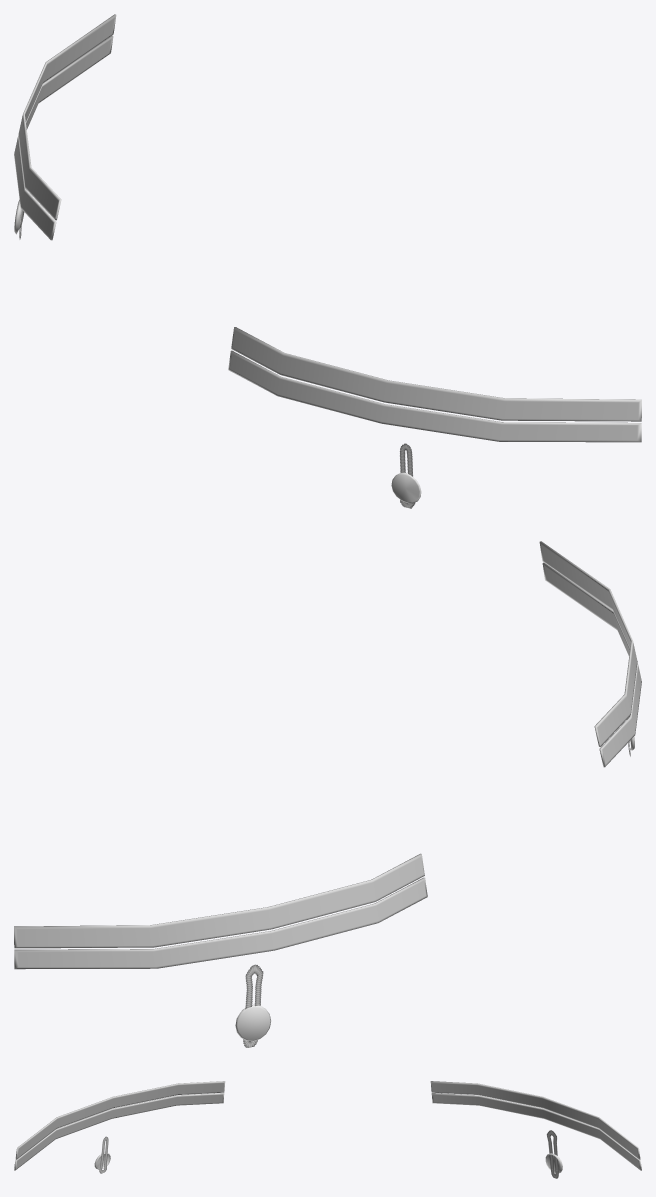
File: two_jetted_pockets_with_buttons.glb
3 views of the same model, one above another, from view 1: azimuth 30°, elevation 25°; view 2: azimuth 150°, elevation 25°; view 3: azimuth 270°, elevation 25° (orthographic). The views are drawn at different scales.
Visible parts, largest first — view 1: SM_T_Right_jetted_pocket, SM_T_Left_jetted_pocket, SM_T_B_Right_pocket_without welted; view 2: SM_T_Left_jetted_pocket, SM_T_Right_jetted_pocket, SM_T_B_Left_pocket_Without Welted; view 3: SM_T_Right_jetted_pocket, SM_T_Left_jetted_pocket, SM_T_B_Left_pocket_Without Welted, SM_T_B_Right_pocket_without welted.
Boxes of the visible parts, box(x1,y1,x2,y2) form: SM_T_Right_jetted_pocket: box(228, 327, 641, 442); SM_T_Left_jetted_pocket: box(14, 14, 116, 240); SM_T_B_Right_pocket_without welted: box(391, 443, 421, 508); SM_T_Left_jetted_pocket: box(14, 853, 427, 969); SM_T_Right_jetted_pocket: box(539, 541, 641, 767); SM_T_B_Left_pocket_Without Welted: box(235, 964, 270, 1047); SM_T_Right_jetted_pocket: box(14, 1081, 225, 1170); SM_T_Left_jetted_pocket: box(430, 1081, 641, 1170); SM_T_B_Left_pocket_Without Welted: box(545, 1130, 562, 1178); SM_T_B_Right_pocket_without welted: box(94, 1136, 110, 1173).
Bounding box in the file's own units: 0.4619 × 0.25 × 1.78.
3 materials, 1 textured.
